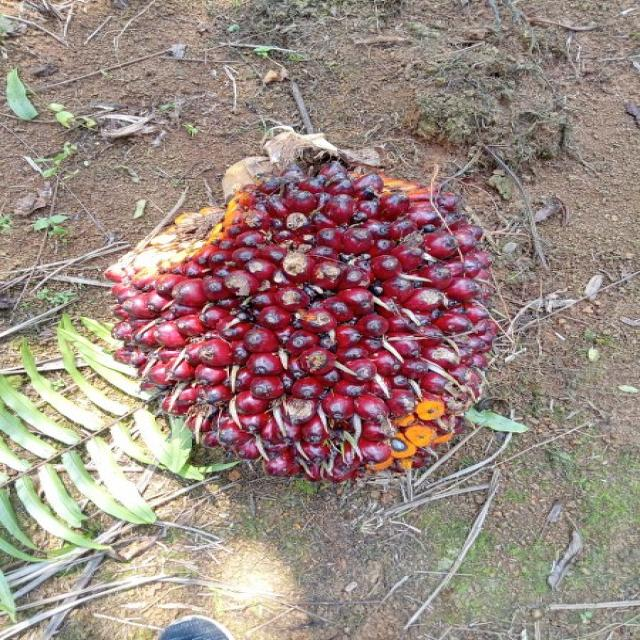fraksi 1: (51, 104, 575, 568)
